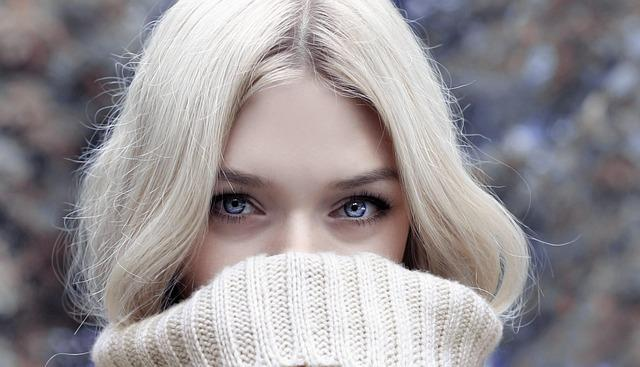Non_Gorille: (69, 0, 599, 367)
